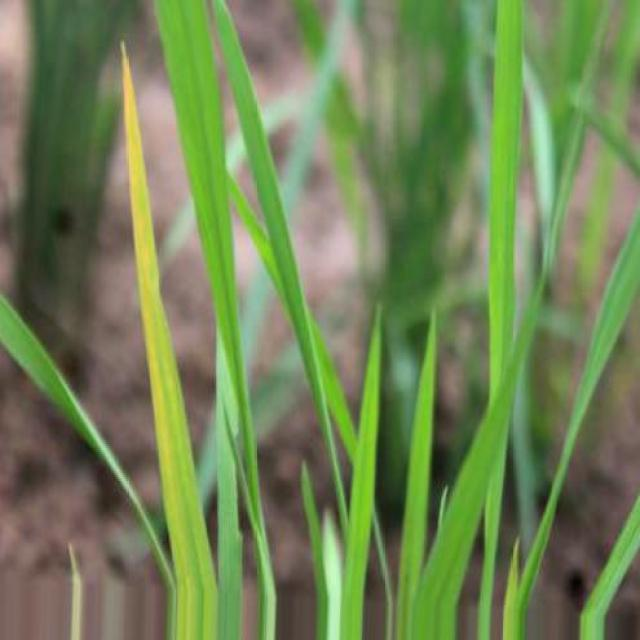Rice Tungro: (123, 45, 218, 638)
